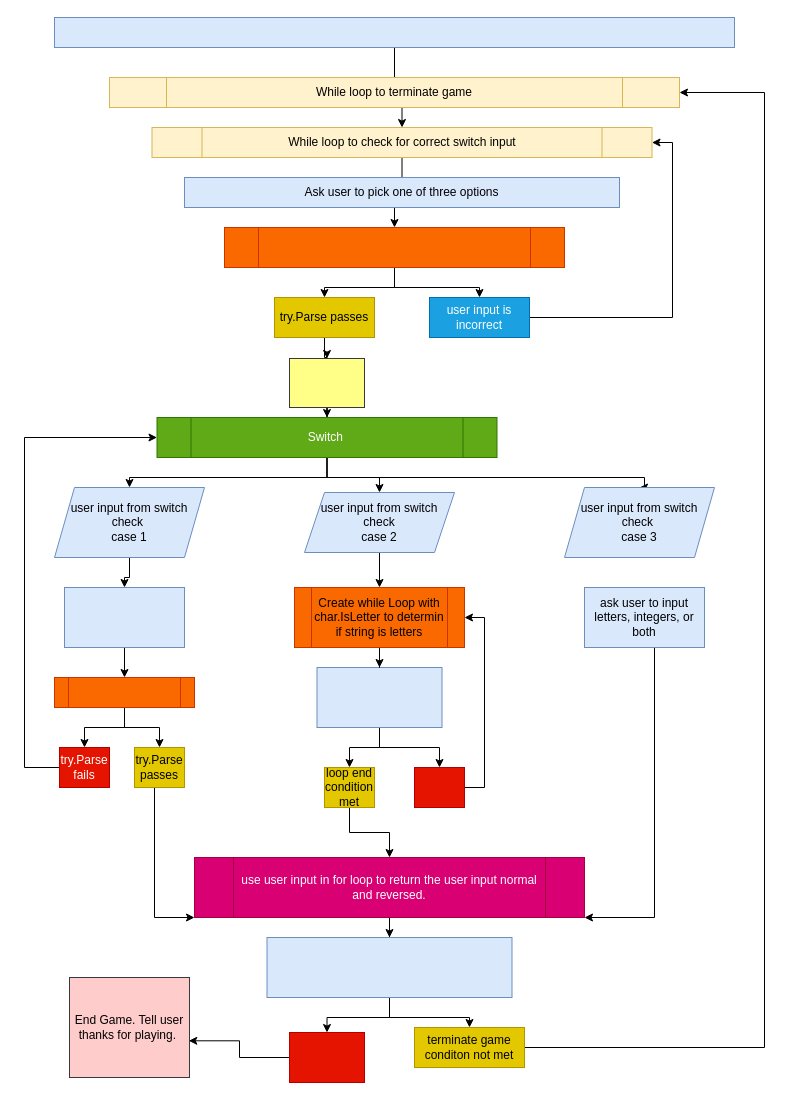
Image size: 790x1100. Some labels were removed from this diagram. Here are the shapes that lost their labels. From the top down, the centre of each, then its label:
(x=394, y=32): Explain to user what the game is and how to proceed
(x=394, y=247): Try parse input user input
(x=326, y=383): conditon met for swtich input loop
(x=124, y=617): ask user to input digits
(x=124, y=692): Try.Parse to determine if digits
(x=379, y=697): ask user to input only letters
(x=439, y=787): loop end condition not met
(x=389, y=967): take user input to determine if play again.
(x=326, y=1057): terminate game condtion met
